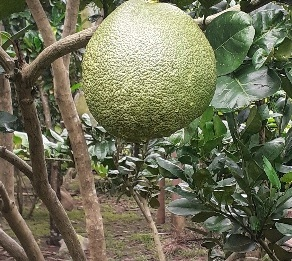Buoi: (76, 1, 227, 154)
